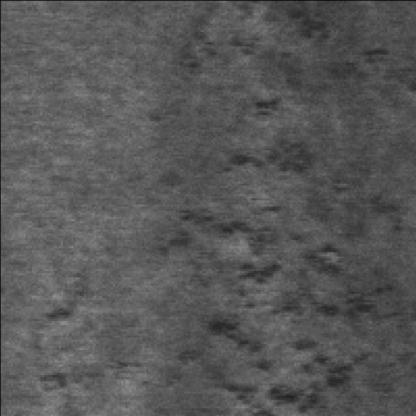rolled-in_scale: (181, 139, 389, 416), (150, 4, 410, 131)
